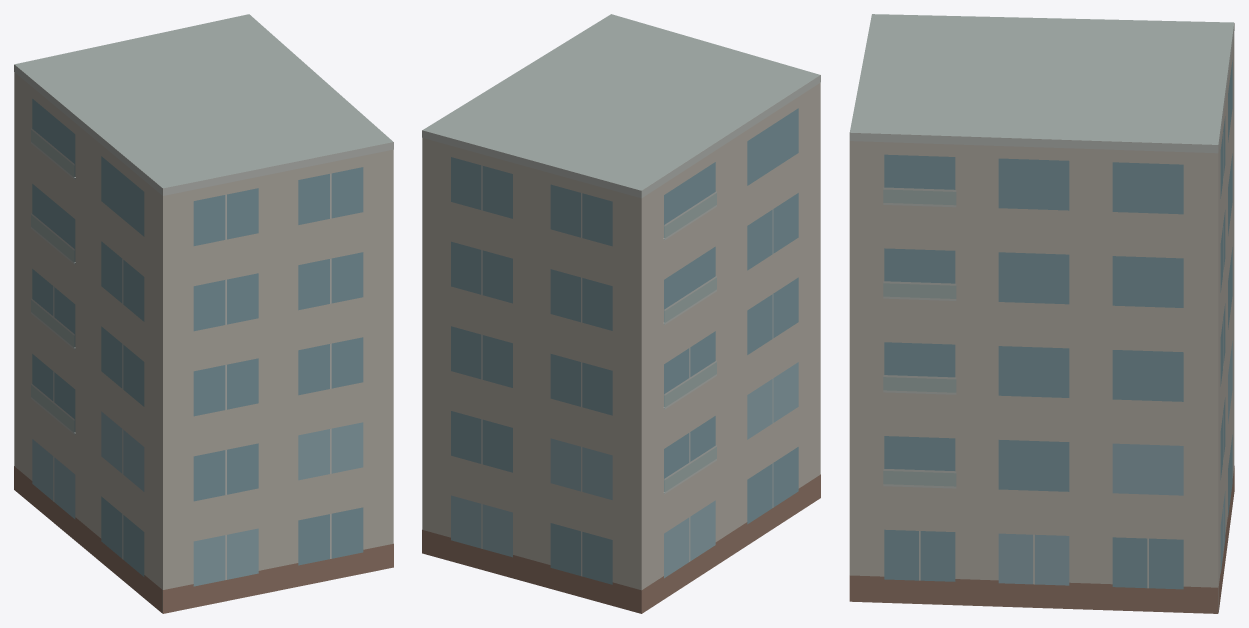
The model's file is survey-upis-32759779.glb.
The picture shows the model from 3 angles, left to right: view 1: azimuth 30°, elevation 25°; view 2: azimuth 150°, elevation 25°; view 3: azimuth 270°, elevation 25°; orthographic projection. The views are drawn at different scales.
Parts seen in each view (by area): view 1: survey-upis-32759779.tmp; view 2: survey-upis-32759779.tmp; view 3: survey-upis-32759779.tmp.
Boxes of the visible parts, x1,y1,x2,y2 form: survey-upis-32759779.tmp: (14, 14, 393, 613); survey-upis-32759779.tmp: (422, 14, 820, 613); survey-upis-32759779.tmp: (849, 14, 1234, 613).
Bounding box in the file's own units: 8.28 × 13.8 × 10.27.
